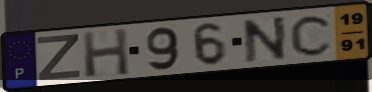6: (191, 21, 229, 68)
9: (144, 25, 181, 72)
C: (288, 13, 335, 58)
H: (80, 26, 132, 79)
N: (240, 14, 289, 65)
Z: (35, 33, 83, 83)
